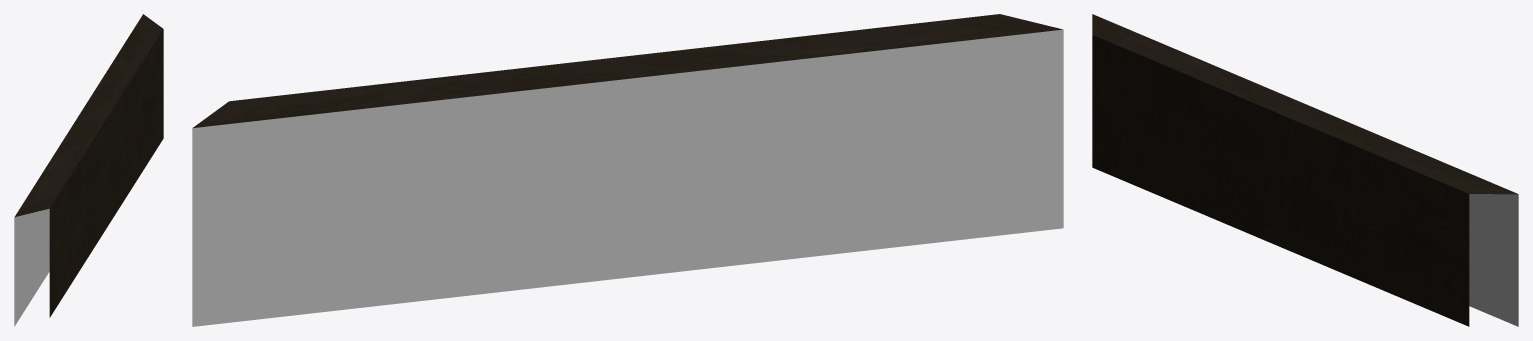
Rendered from fortress_quarter_diagonal_03.fbx.
The picture shows the model from 3 angles, left to right: view 1: azimuth 30°, elevation 25°; view 2: azimuth 150°, elevation 25°; view 3: azimuth 270°, elevation 25°; orthographic projection. The views are drawn at different scales.
Visible parts, largest first — view 1: fortress_quarter_diagonal_03-0; view 2: fortress_quarter_diagonal_03-0; view 3: fortress_quarter_diagonal_03-0.
Boxes of the visible parts, <box> form: fortress_quarter_diagonal_03-0: <box>14,14,163,326</box>; fortress_quarter_diagonal_03-0: <box>192,14,1063,326</box>; fortress_quarter_diagonal_03-0: <box>1092,14,1518,326</box>.
Bounding box in the file's own units: 4 × 1.38 × 4.
